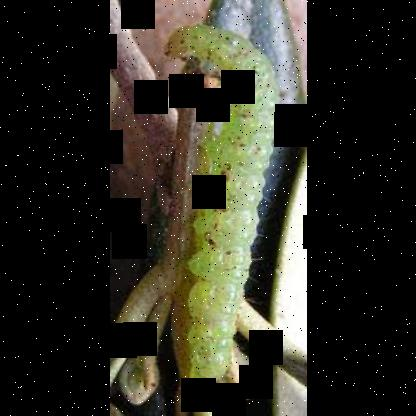oruga: (166, 23, 278, 392)
